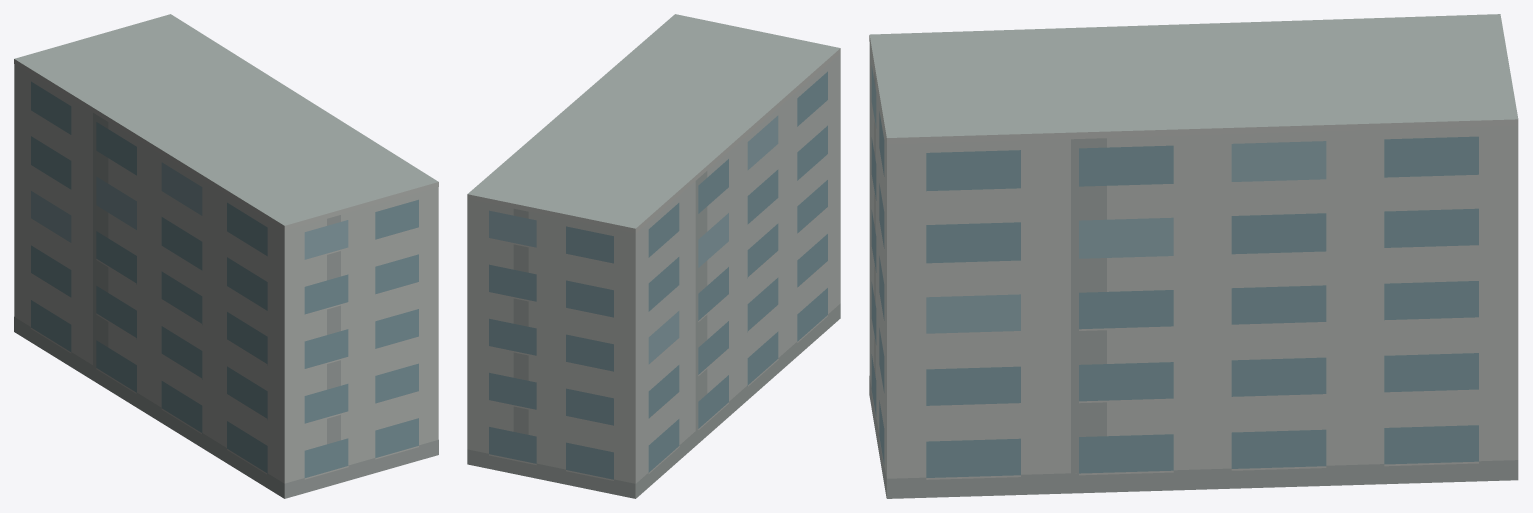
Rendered from survey-upis-32885614.glb.
3 views of the same model, side by side, from view 1: azimuth 30°, elevation 25°; view 2: azimuth 150°, elevation 25°; view 3: azimuth 270°, elevation 25° (orthographic). The views are drawn at different scales.
Parts seen in each view (by area): view 1: survey-upis-32885614.tmp; view 2: survey-upis-32885614.tmp; view 3: survey-upis-32885614.tmp.
Part boxes in pixels (bbox=[...]): survey-upis-32885614.tmp: bbox=[14, 14, 438, 498]; survey-upis-32885614.tmp: bbox=[467, 14, 840, 498]; survey-upis-32885614.tmp: bbox=[869, 14, 1518, 498].
Bounding box in the file's own units: 9.82 × 13.3 × 21.69.
